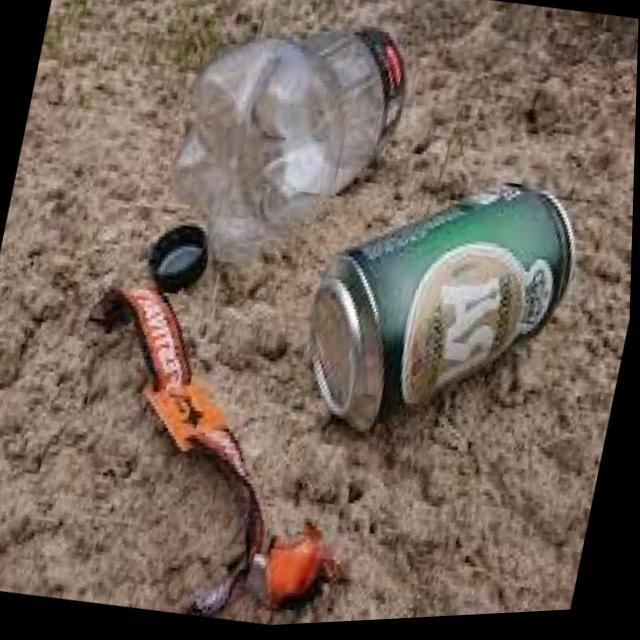clothes: (288, 126, 616, 488)
food: (23, 266, 304, 626)
leaf: (155, 0, 452, 278), (133, 214, 221, 294), (182, 105, 200, 122)
wood: (244, 508, 337, 630)
